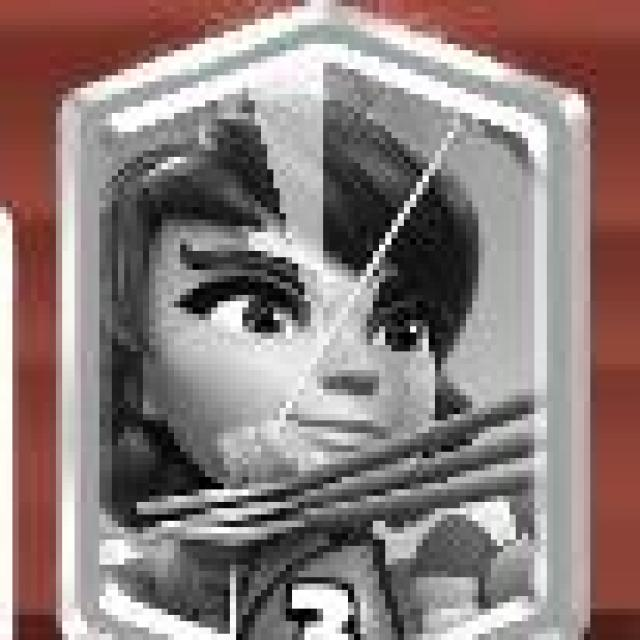Princess: (67, 0, 594, 640)
